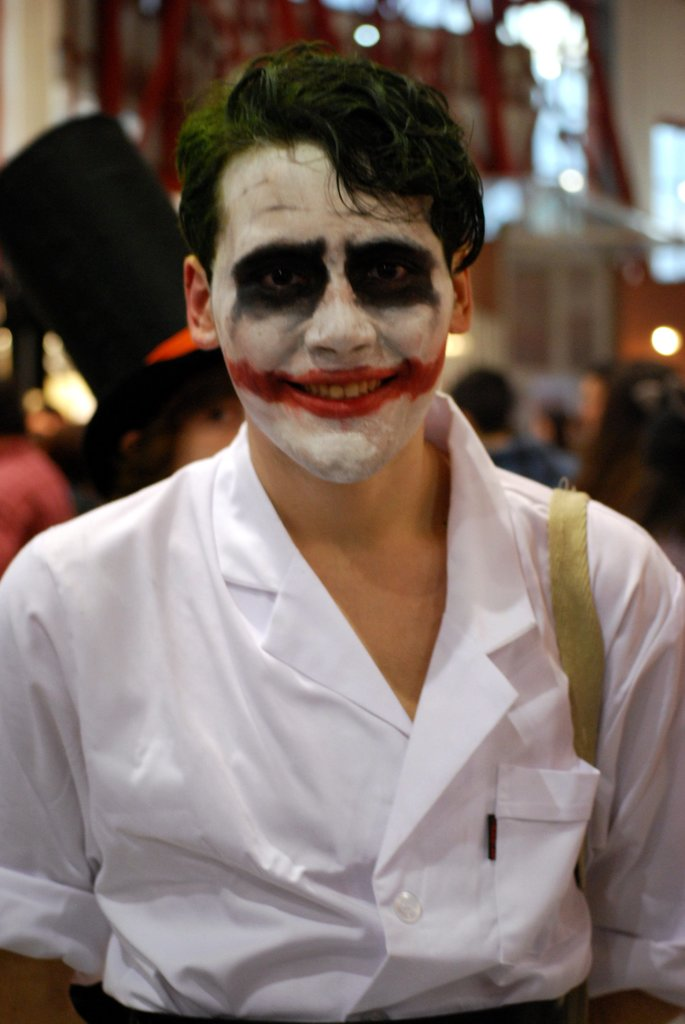person: (449, 364, 580, 489)
